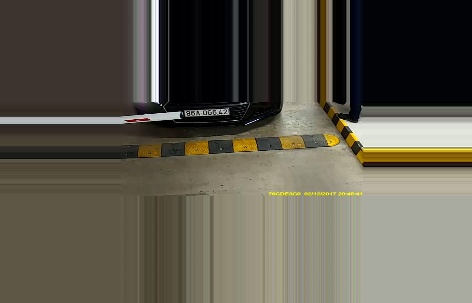plate: (183, 106, 229, 118)
